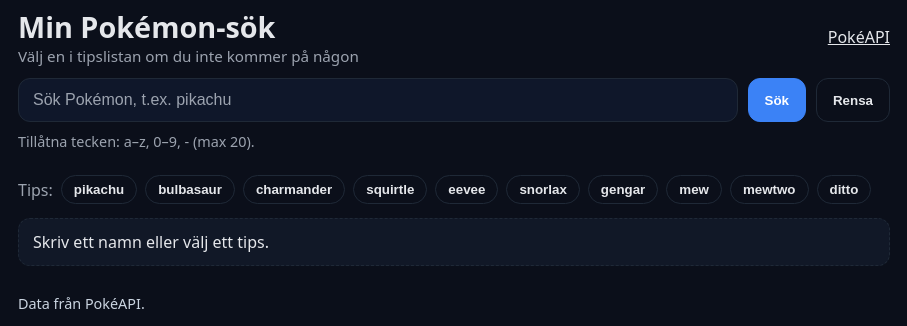
Test case: App – centrala funktioner › stoppar ogiltig input och visar felmeddelande
In the field with placeholder "Sök Pokémon, t.ex. pikachu": (378, 100) x1=18 y1=78 x2=738 y2=122, type "???"
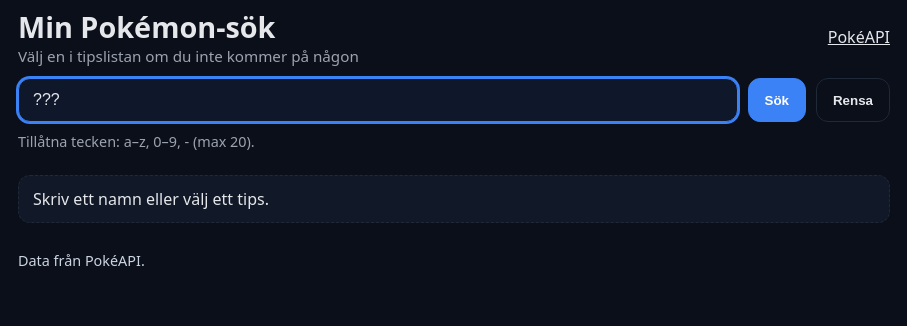
Click the button "Sök": (777, 100) x1=748 y1=78 x2=806 y2=122
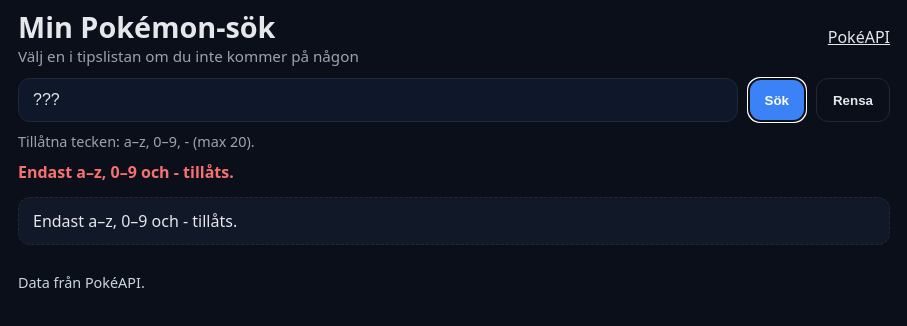
Expected: the message "Endast a–z, 0–9 och - tillåts." below "Tillåtna tecken: a–z, 0–9, - (max 20)." is shown, x1=18 y1=161 x2=234 y2=183
